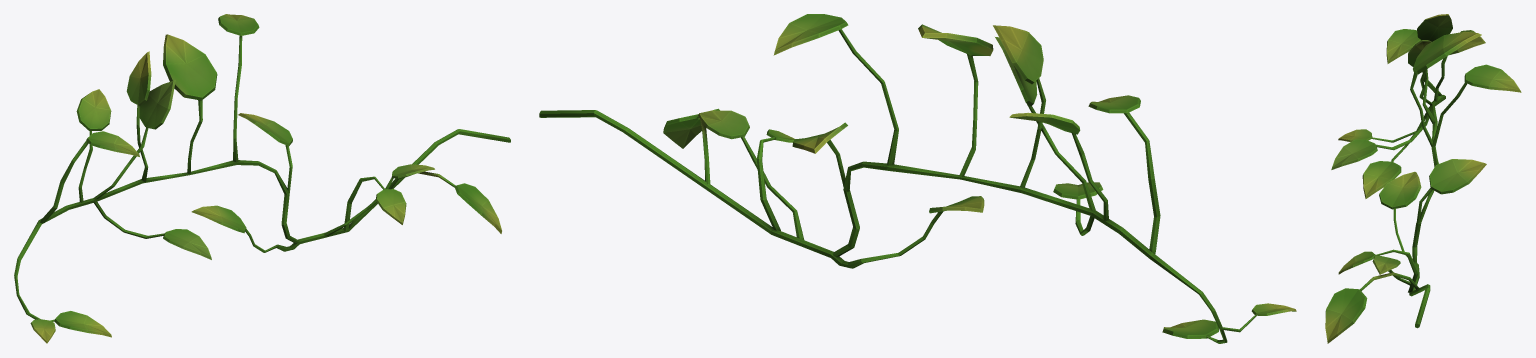
File: Vines.gltf
3 views of the same model, side by side, from view 1: azimuth 30°, elevation 25°; view 2: azimuth 150°, elevation 25°; view 3: azimuth 270°, elevation 25° (orthographic). The views are drawn at different scales.
Visible parts, largest first — view 1: node-0; view 2: node-0; view 3: node-0.
Part boxes in pixels (bbox=[...]): node-0: bbox=[14, 14, 510, 343]; node-0: bbox=[539, 14, 1296, 343]; node-0: bbox=[1325, 14, 1521, 343].
Size of the model in its own units: 13.72 by 6.04 by 4.84.
1 material, 1 textured.
